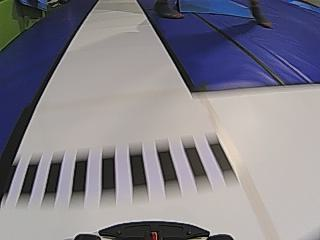CrossWalk: (0, 127, 238, 210)
